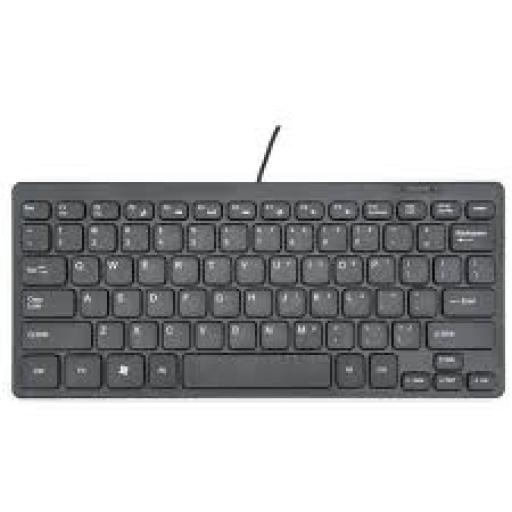KEYBOARD-2: (11, 182, 503, 396)
